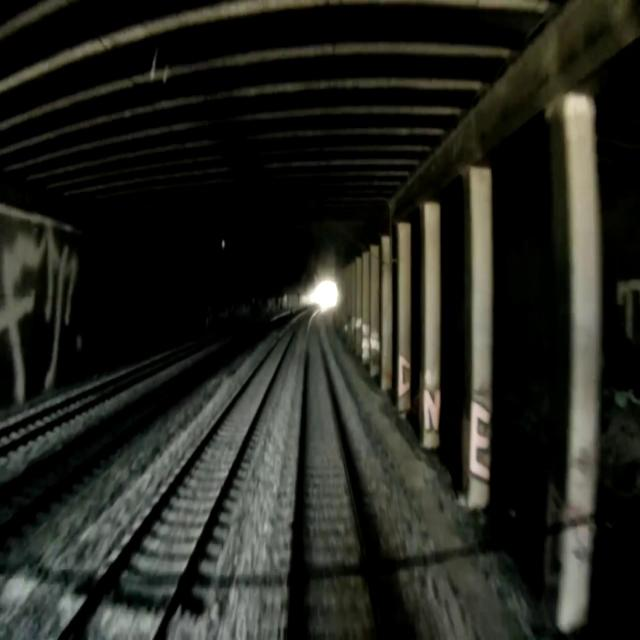rail-track: (63, 318, 301, 639), (294, 314, 382, 639), (0, 359, 167, 443)
